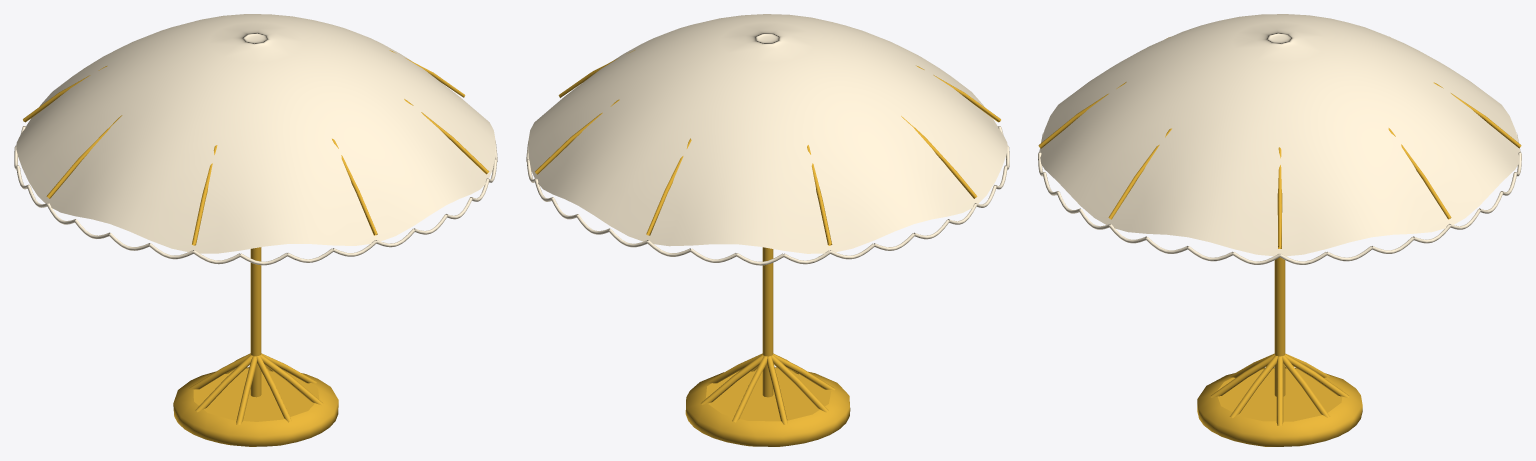
The model's file is kart.umbrella.lace.glb.
The picture shows the model from 3 angles, left to right: view 1: azimuth 30°, elevation 25°; view 2: azimuth 150°, elevation 25°; view 3: azimuth 270°, elevation 25°; orthographic projection.
Parts seen in each view (by area): view 1: lace_canopy, parasol_foot, umbrella_shaft, foot_scroll.004, foot_scroll.007, foot_scroll.005; view 2: lace_canopy, parasol_foot, umbrella_shaft, foot_scroll.004, foot_scroll.001, foot_scroll.003; view 3: lace_canopy, parasol_foot, umbrella_shaft, foot_scroll, foot_scroll.007, foot_scroll.001, foot_scroll.002, foot_scroll.006.
Part boxes in pixels (x1,y1,x2,y2): lace_canopy: (16, 14, 495, 253); parasol_foot: (173, 367, 338, 446); umbrella_shaft: (250, 247, 261, 397); foot_scroll.004: (195, 354, 252, 412); foot_scroll.007: (260, 354, 322, 405); foot_scroll.005: (236, 356, 256, 424); lace_canopy: (528, 14, 1007, 253); parasol_foot: (685, 367, 850, 446); umbrella_shaft: (762, 247, 773, 397); foot_scroll.004: (771, 355, 828, 412); foot_scroll.001: (701, 354, 763, 404); foot_scroll.003: (767, 356, 787, 424); lace_canopy: (1040, 14, 1519, 256); parasol_foot: (1197, 367, 1362, 446); umbrella_shaft: (1274, 257, 1285, 396); foot_scroll: (1276, 356, 1283, 425); foot_scroll.007: (1230, 355, 1277, 417); foot_scroll.001: (1282, 355, 1329, 417); foot_scroll.002: (1285, 354, 1349, 397); foot_scroll.006: (1210, 354, 1274, 397).
Bounding box in the file's own units: 0.48 × 0.413 × 0.48.
